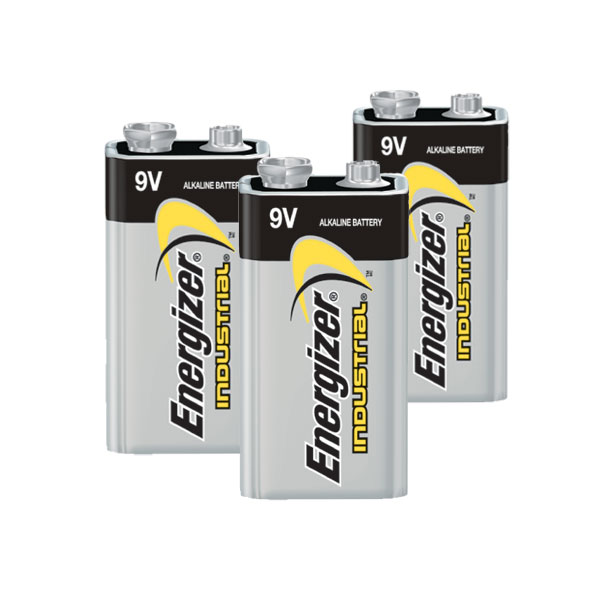9V: (220, 153, 426, 520), (96, 113, 277, 463), (343, 87, 531, 417)
